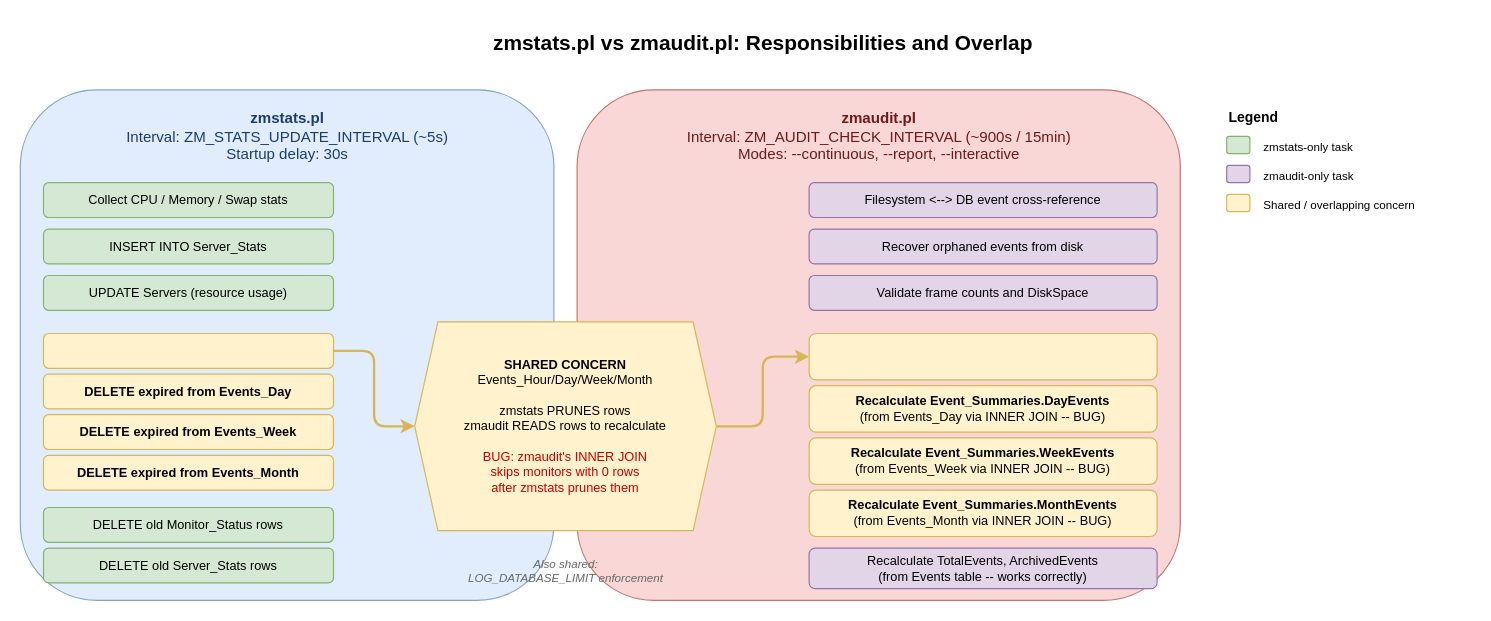
This 1491x621 diagram has some shape labels left out. The shapes that lost their labels are listed below. From the top down, each one's centre as x and y in pixels, then its label:
At (x=188, y=350): "DELETE expired from Events_Hour".
At (x=982, y=356): "Recalculate Event_Summaries.HourEvents (from Events_Hour via INNER JOIN -- BUG)".
